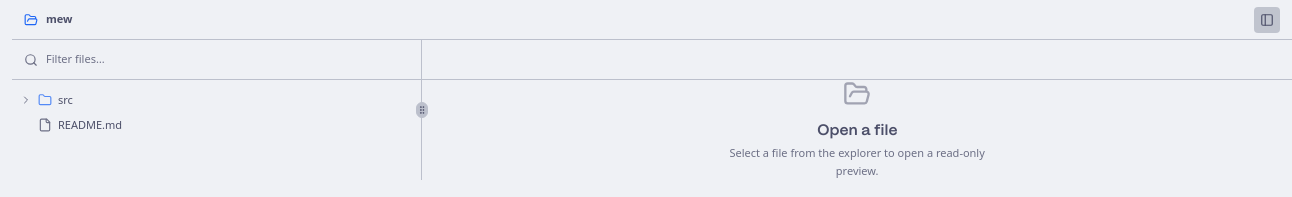
Scenario: WorkspaceFileWorkbench › filters explorer entries without changing their relative paths
The width and height of the screenshot is (1292, 197).
Expected: the button "src" is shown, [12,88,421,112]
Type "read" into the field labelled "Filter files".
click(228, 60); type("read")  # box [46,51,409,68]
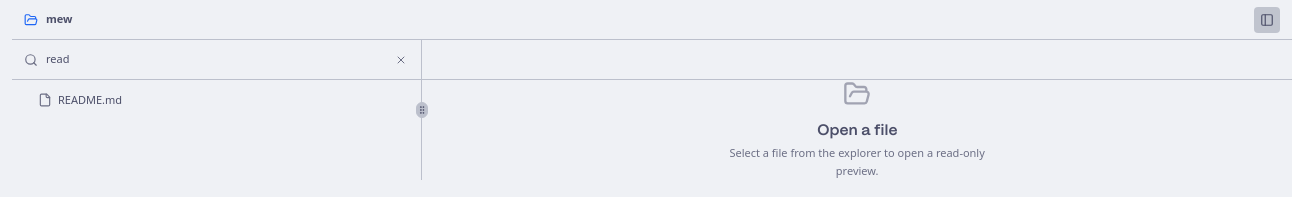
Expected: the button "README.md" is shown, [12,88,421,112]
Expected: the button "src" is gone
